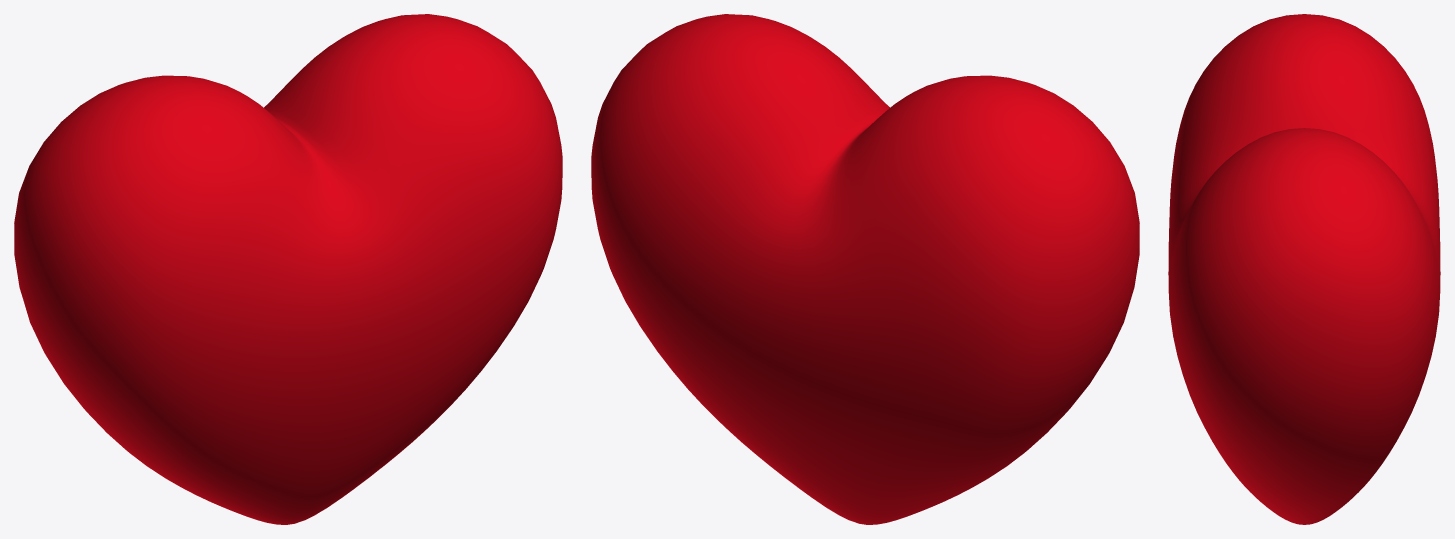
File: heartup.fbx
3 renders of one model, left to right at view 1: azimuth 30°, elevation 25°; view 2: azimuth 150°, elevation 25°; view 3: azimuth 270°, elevation 25°, orthographic. The views are drawn at different scales.
Visible parts, largest first — view 1: BASE HEART; view 2: BASE HEART; view 3: BASE HEART.
Part boxes in pixels (x1,y1,x2,y2): BASE HEART: (14,14,562,524); BASE HEART: (591,14,1139,524); BASE HEART: (1168,14,1440,524).
Bounding box in the file's own units: 85.81 × 74.83 × 42.25.
